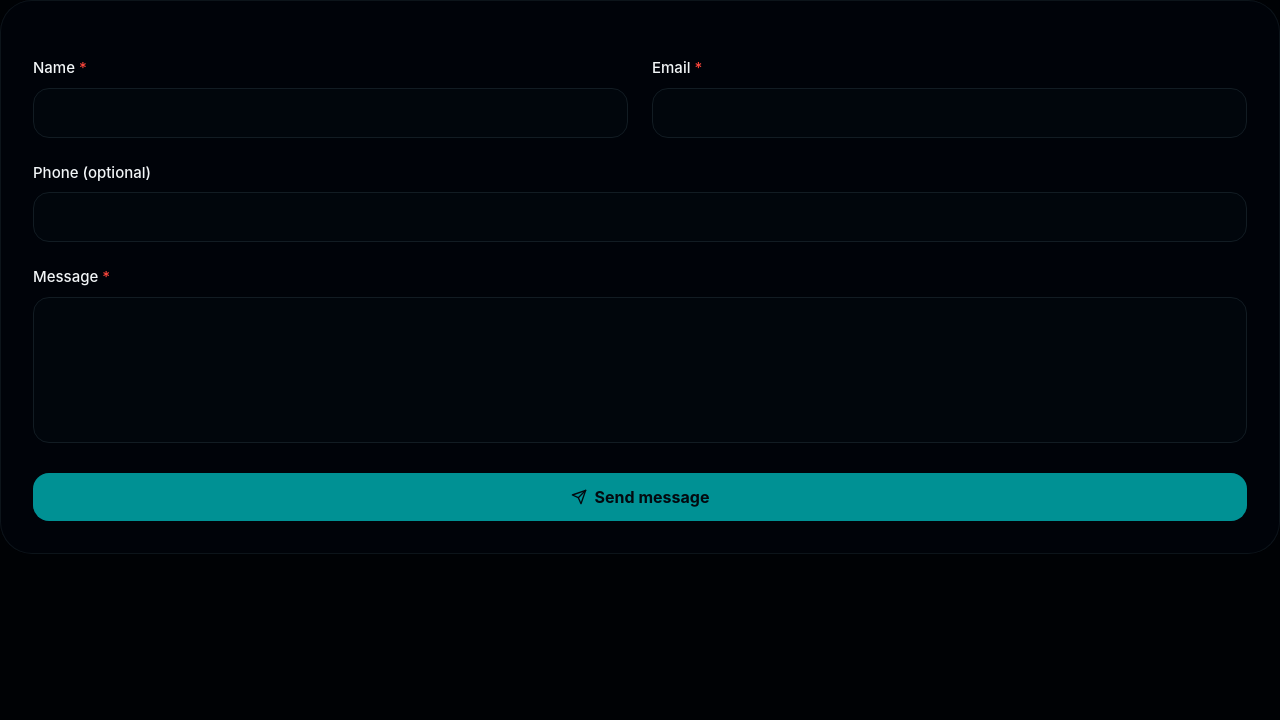
ContactForm — a network failure shows friendly copy, never raw error jargon › a rejected fetch shows a plain retry message (not "Failed to fetch") + keeps fields for retry
The image size is (1280, 720).
Type "Jane Doe" into the field labelled "Name *" at (330, 112), box [33,88,628,138]
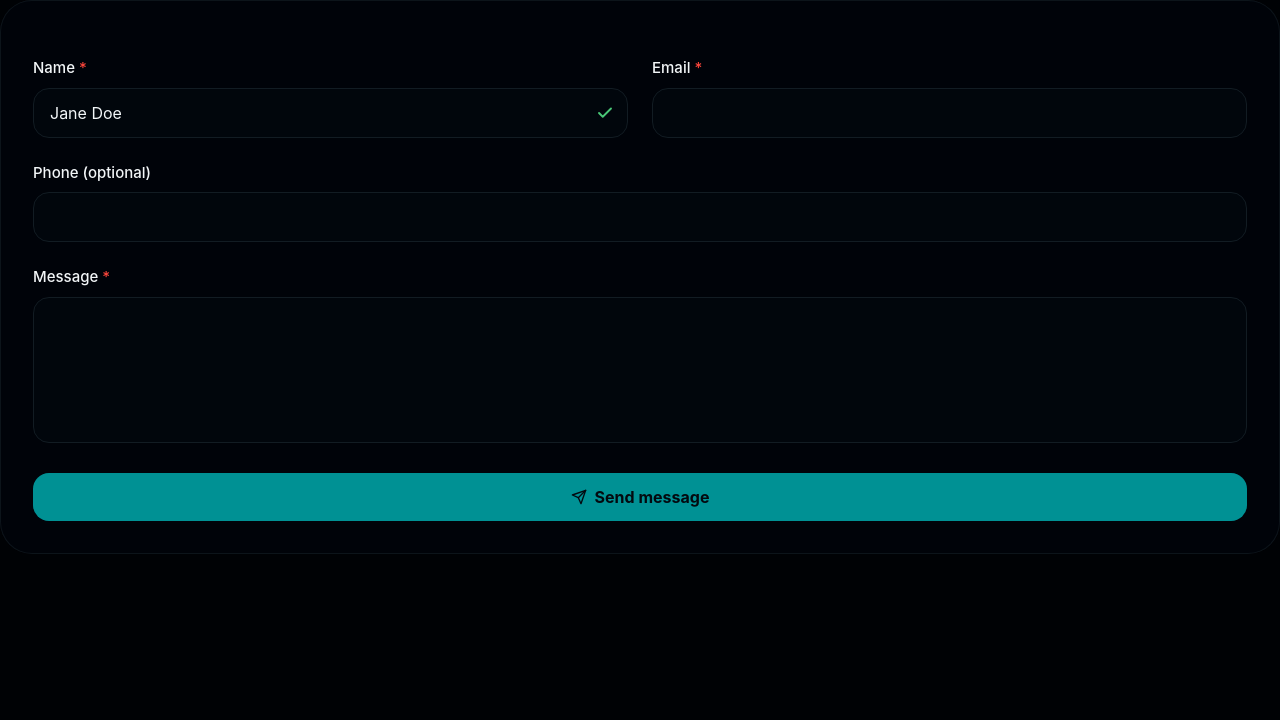
Type "jane@example.com" into the field labelled "Email *" at (950, 112), box [652,88,1247,138]
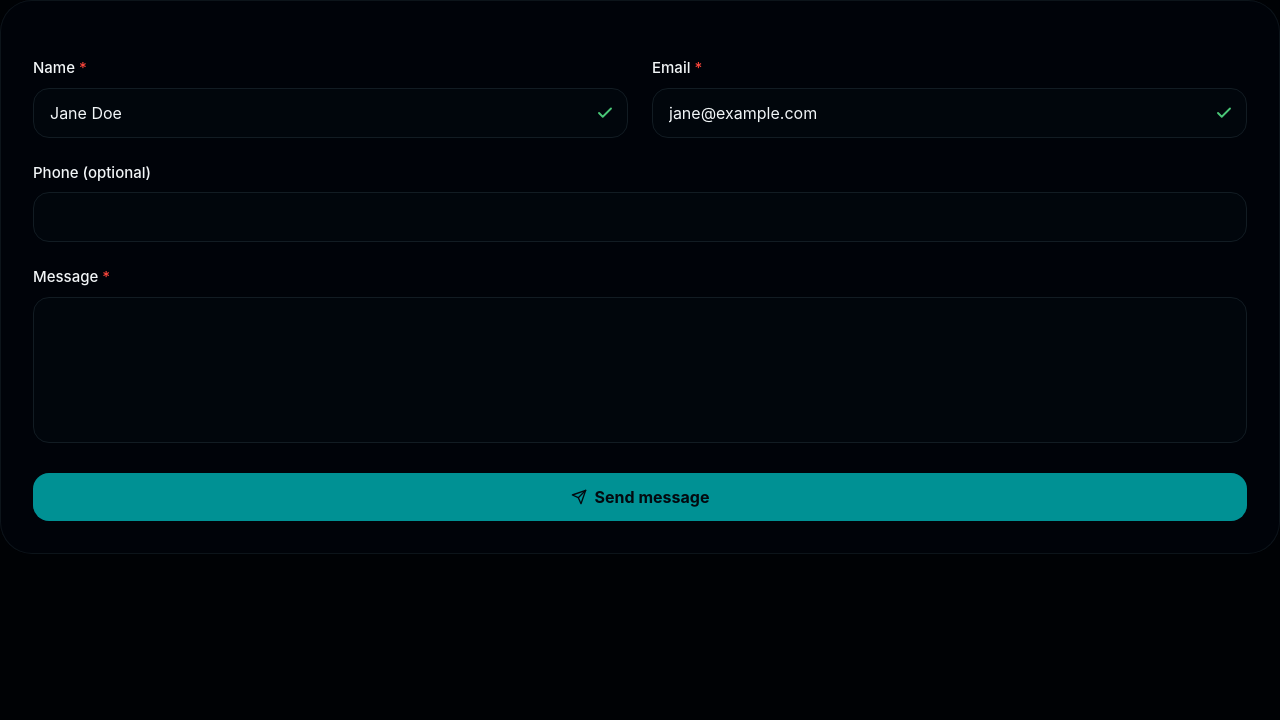
Type "Hello — a genuine enquiry about your hours." into the text box labelled "Message *" at (640, 370), box [33,296,1247,442]
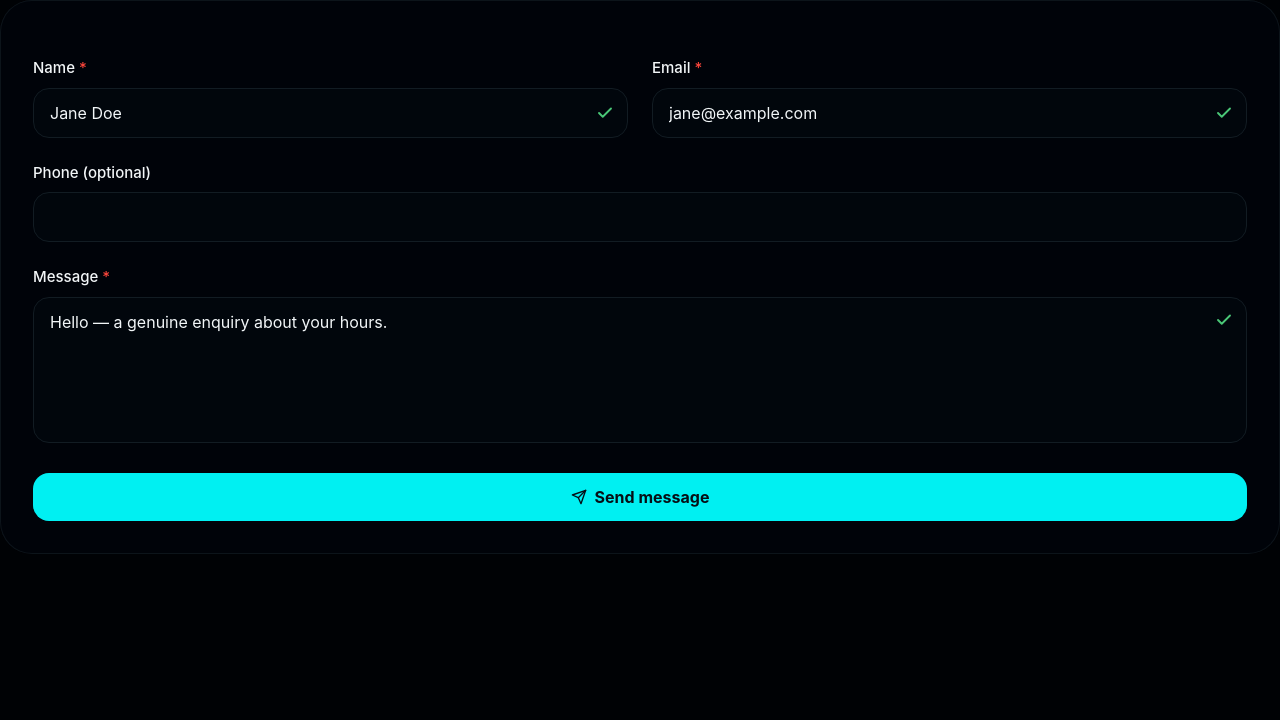
Check: the button "Send message" is enabled
Click the button "Send message" at (640, 496), box [33,472,1247,520]
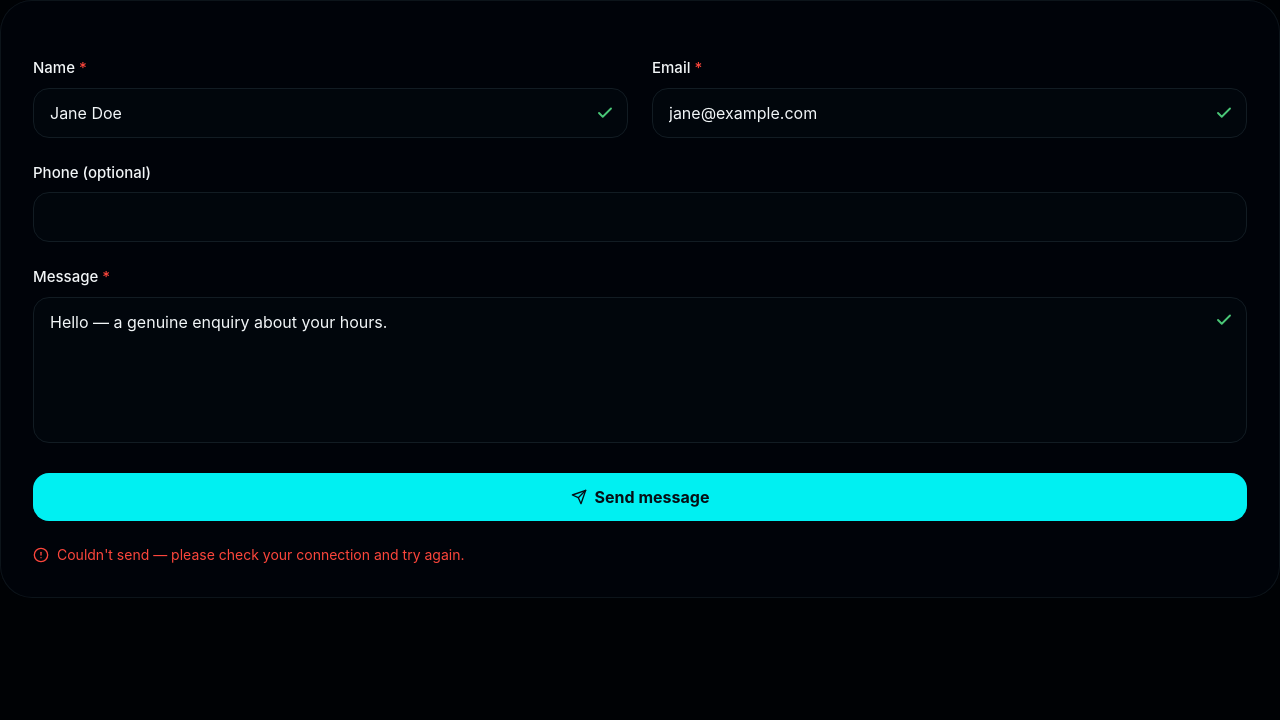
Check: the message shows "check your connection", box [57,546,464,562]
